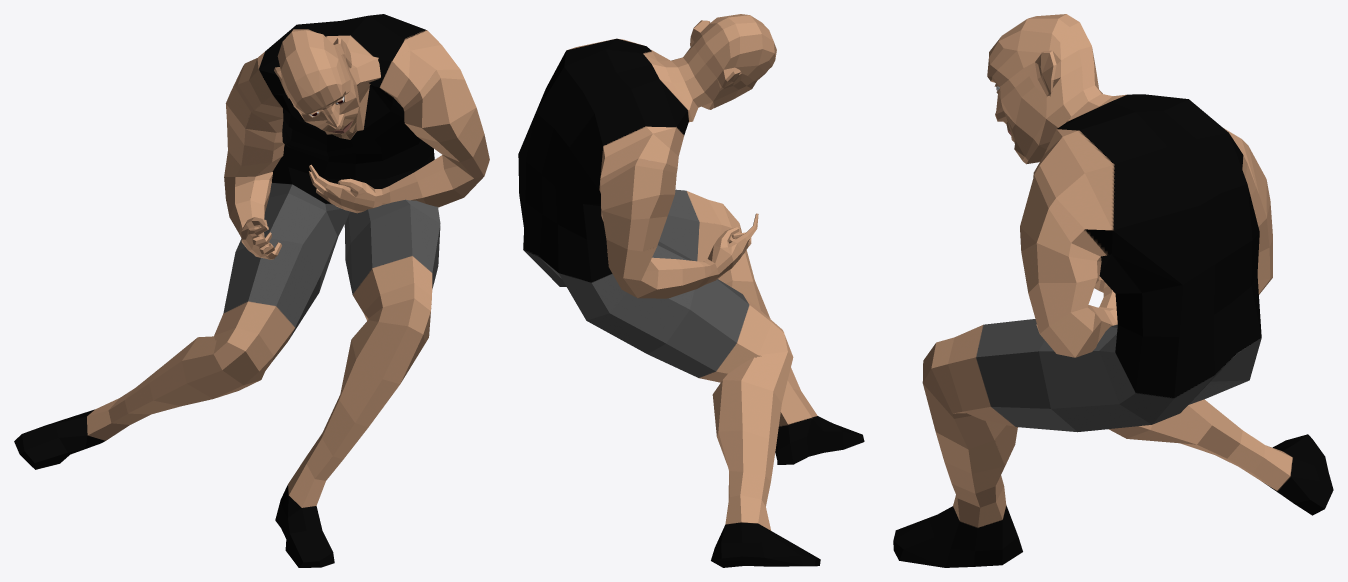
File: PlayerDead(34).obj
3 views of the same model, side by side, from view 1: azimuth 30°, elevation 25°; view 2: azimuth 150°, elevation 25°; view 3: azimuth 270°, elevation 25° (orthographic). The views are drawn at different scales.
Parts seen in each view (by area): view 1: Plane002; view 2: Plane002; view 3: Plane002.
Boxes of the visible parts, <box> form: Plane002: <box>14,14,489,567</box>; Plane002: <box>518,14,864,567</box>; Plane002: <box>893,14,1333,567</box>.
Size of the model in its own units: 972 by 1193 by 840.
